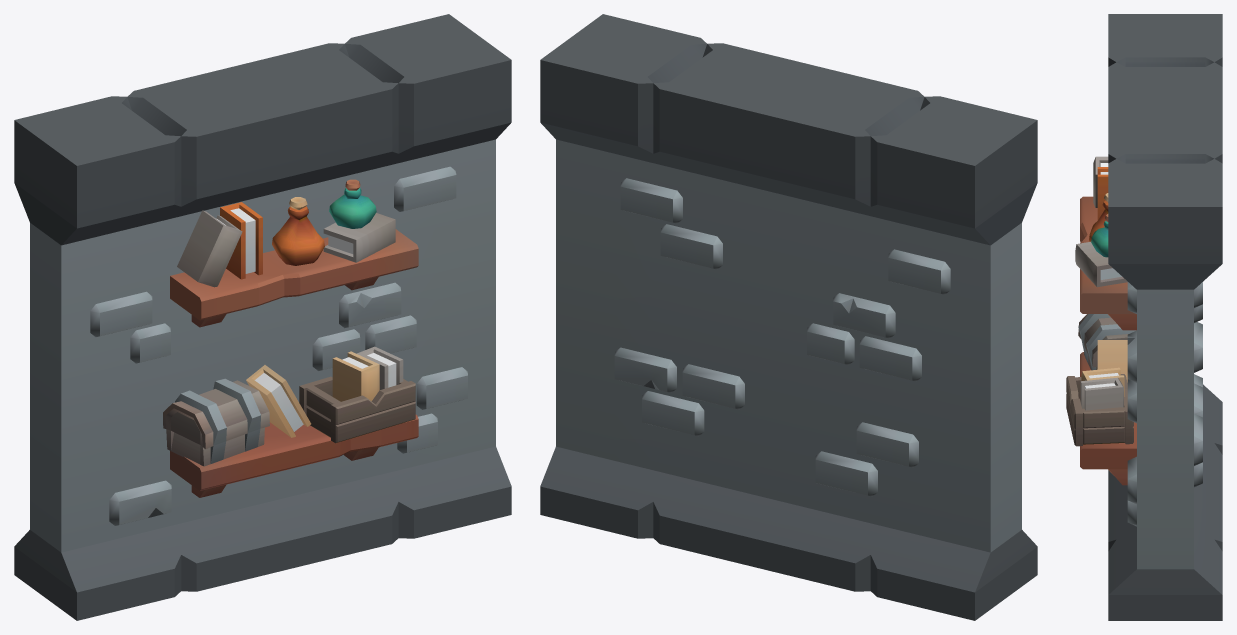
Rendered from kay-parede-estantes.gltf.
3 views of the same model, side by side, from view 1: azimuth 30°, elevation 25°; view 2: azimuth 150°, elevation 25°; view 3: azimuth 270°, elevation 25° (orthographic). The views are drawn at different scales.
Visible parts, largest first — view 1: wall_shelves; view 2: wall_shelves; view 3: wall_shelves.
Boxes of the visible parts, x1,y1,x2,y2 form: wall_shelves: [14, 14, 511, 620]; wall_shelves: [540, 14, 1037, 620]; wall_shelves: [1066, 14, 1222, 620].
Size of the model in its own units: 2.6 by 2.6 by 0.8891.
1 material, 1 textured.
